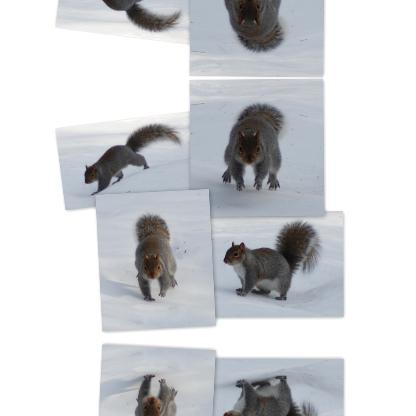Squirrel: (223, 219, 323, 297), (83, 121, 181, 196), (219, 102, 281, 190), (135, 211, 177, 299), (223, 379, 324, 415), (83, 0, 182, 35), (219, 0, 282, 55), (135, 377, 178, 415)
